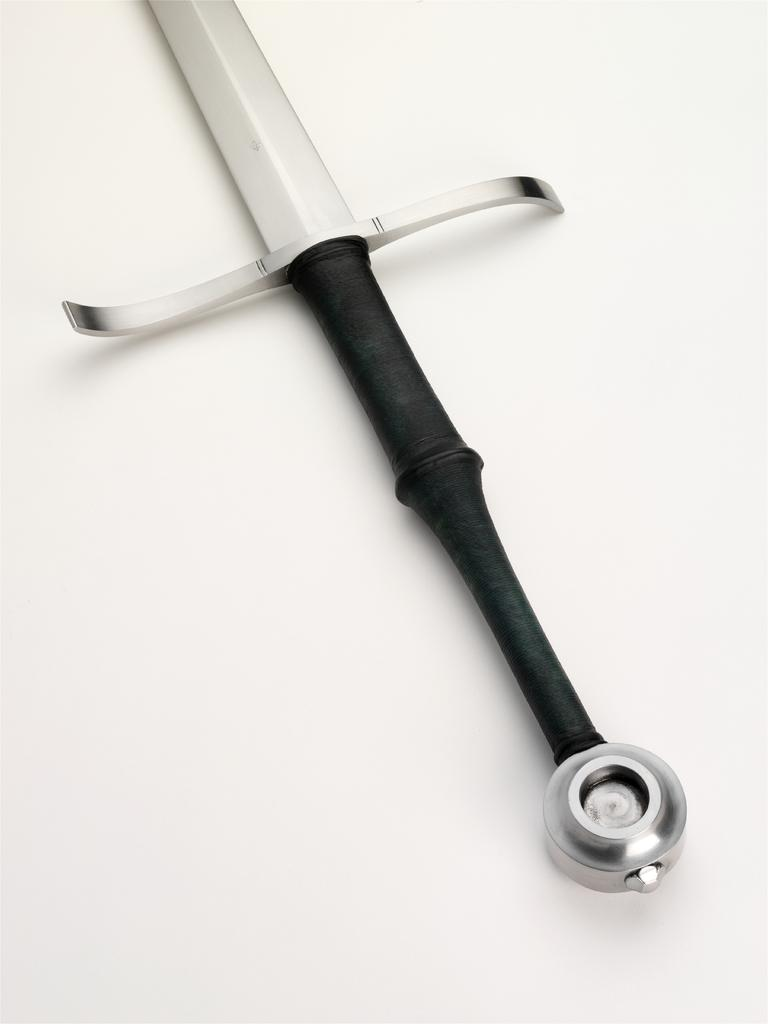Sword: (60, 0, 691, 893)
